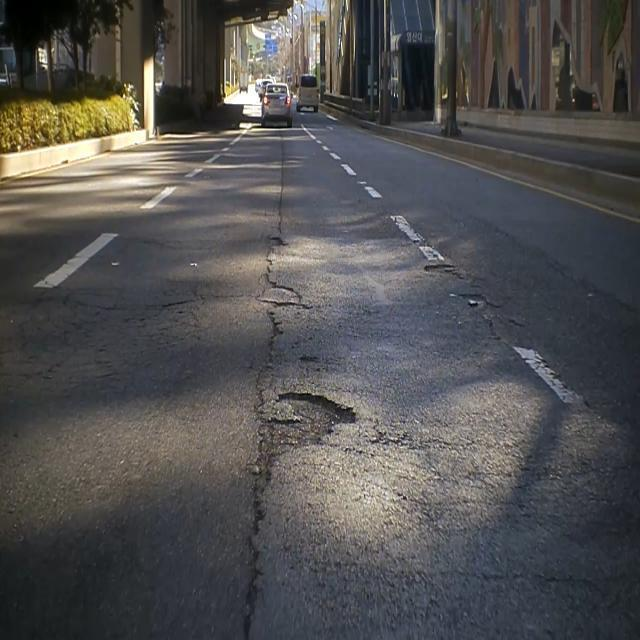pothole: (252, 384, 363, 477), (464, 294, 509, 365), (415, 250, 468, 286)
